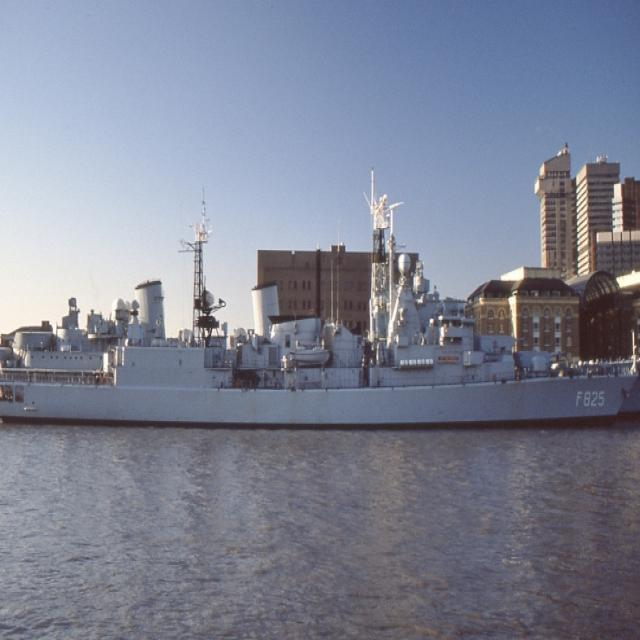Fragata: (1, 180, 640, 434)
